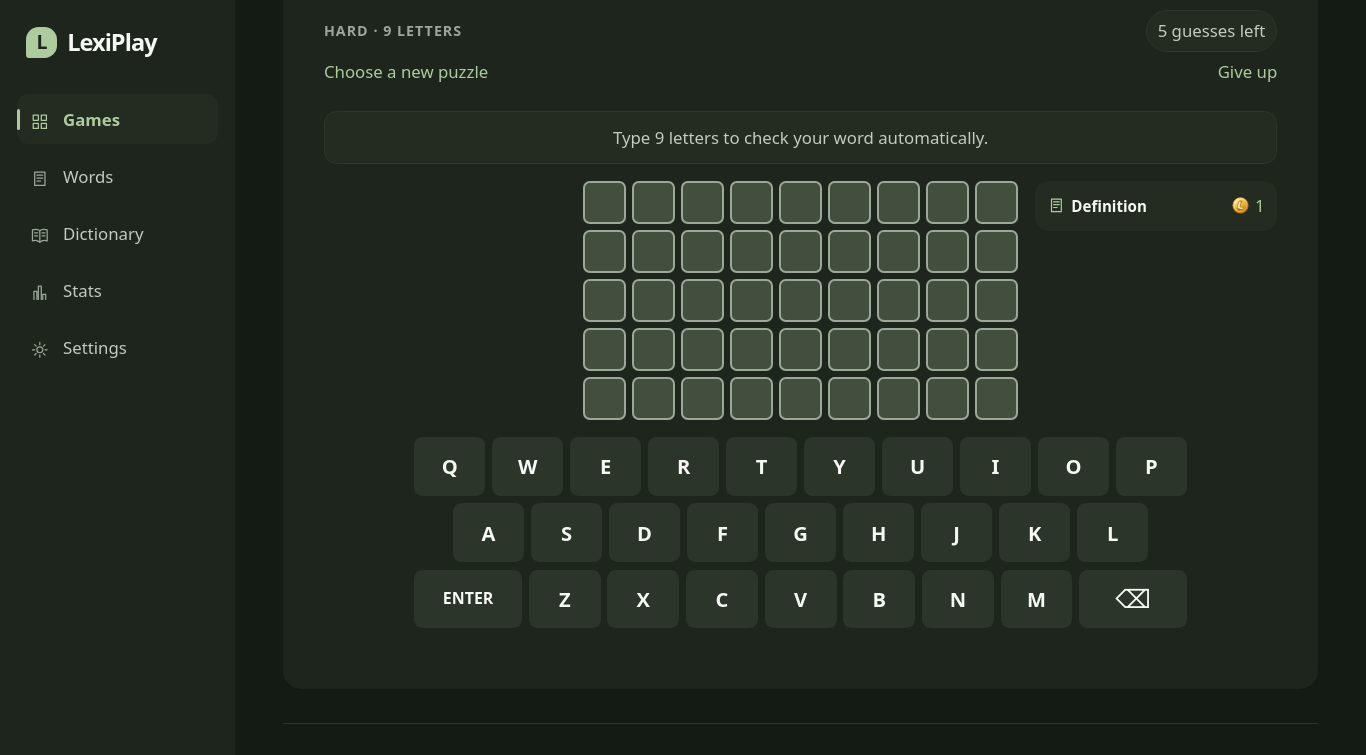
Test: saved practice and account updates › keeps an unfinished puzzle available when its refund request fails
(page scrolled)
Click the button "Choose a new puzzle" at (406, 72), box [324,49,488,95]
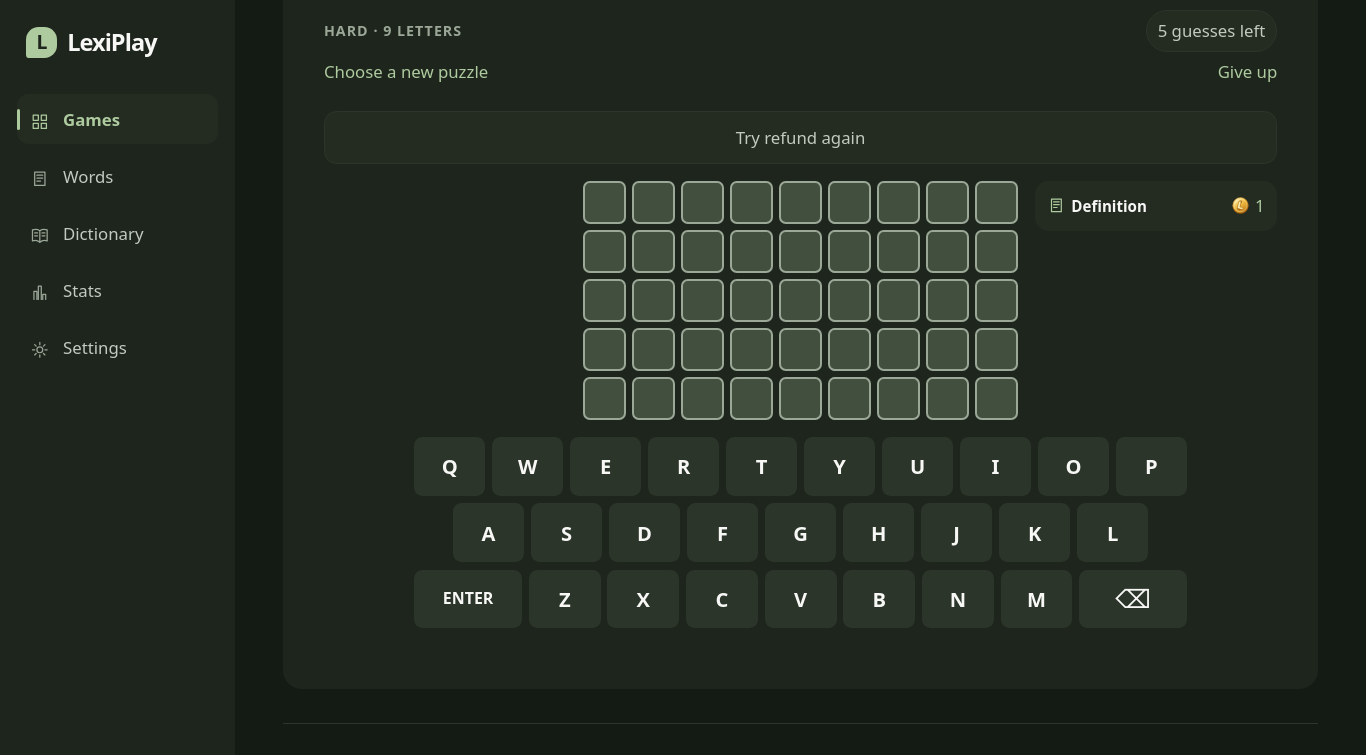
Now the text "Try refund again" is shown, box [324,112,1277,164]
Click the button "Choose a new puzzle" at (406, 72), box [324,49,488,95]
(page scrolled)
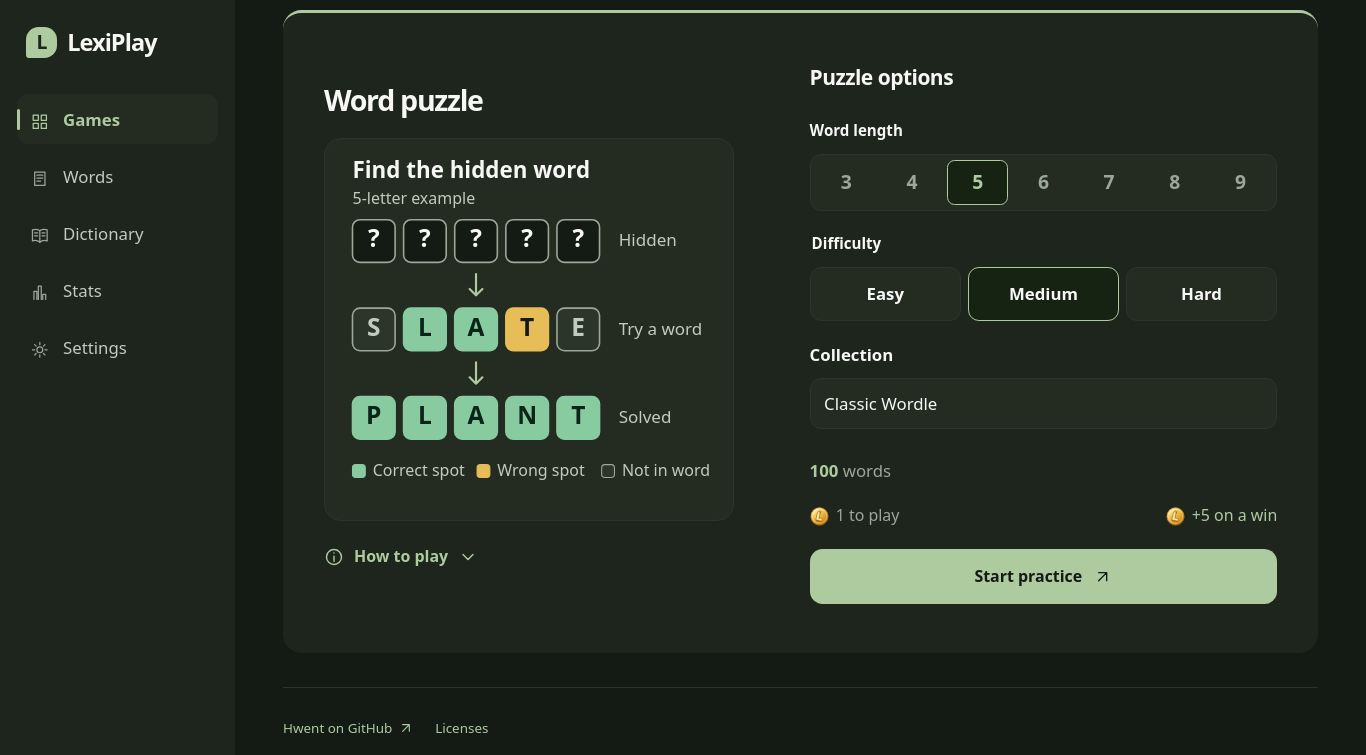
Now the button "Start practice" is shown, box [810,549,1277,604]
